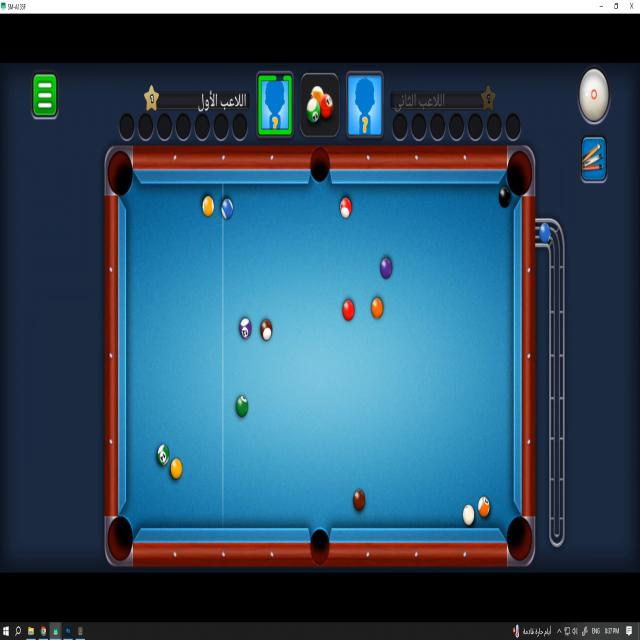object_ball: (380, 258, 392, 279), (157, 445, 169, 465), (236, 396, 247, 417), (240, 318, 251, 339), (353, 489, 364, 510), (221, 198, 232, 219), (478, 496, 489, 517), (343, 300, 354, 321), (340, 198, 351, 218), (171, 459, 182, 479), (261, 320, 272, 340), (499, 187, 510, 207), (203, 196, 213, 216), (372, 298, 382, 318)
white_cue_ball: (463, 504, 475, 526)
